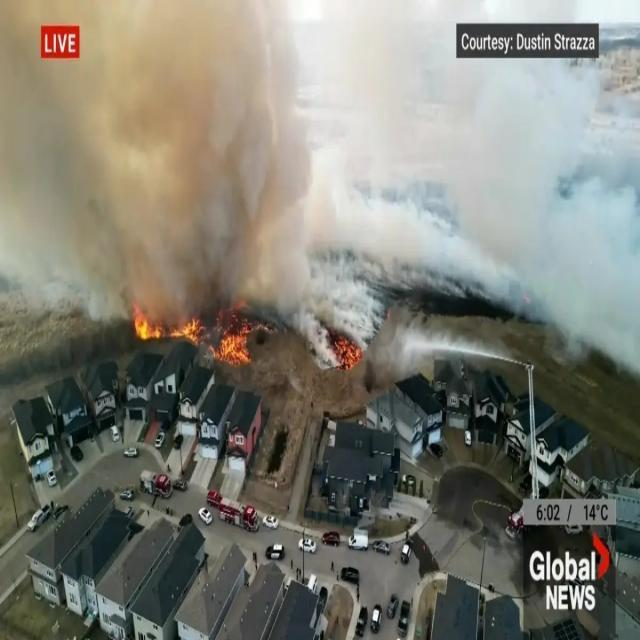Fire: (124, 302, 262, 370), (316, 320, 369, 378)
Smoke: (9, 11, 637, 344)
